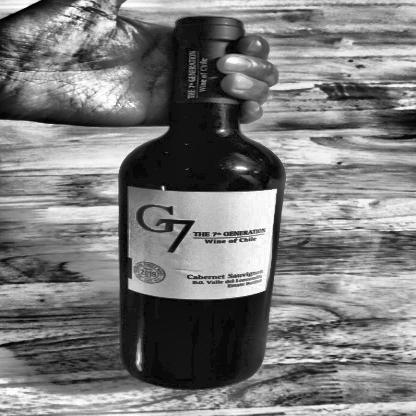G7: (130, 183, 273, 302)
